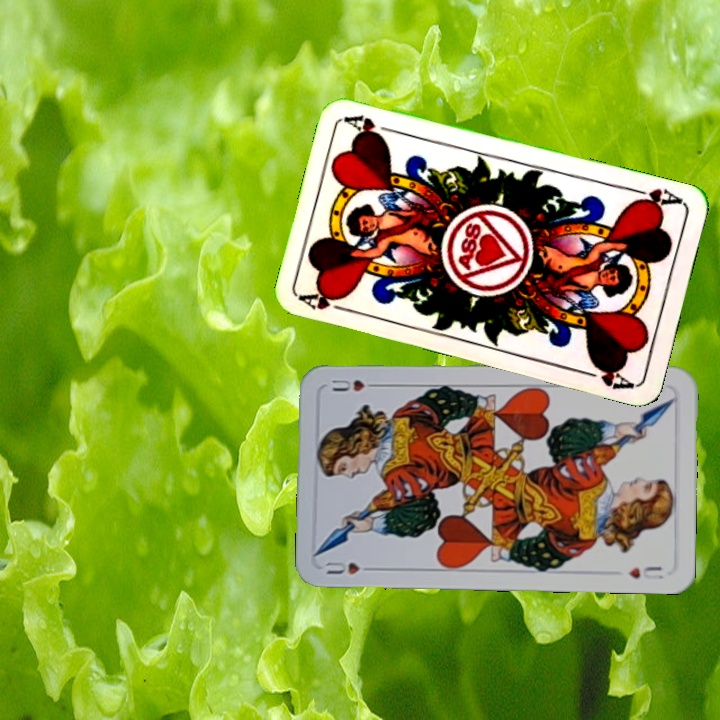HA: (297, 286, 356, 316), (625, 183, 684, 212)
HU: (322, 554, 379, 577)
